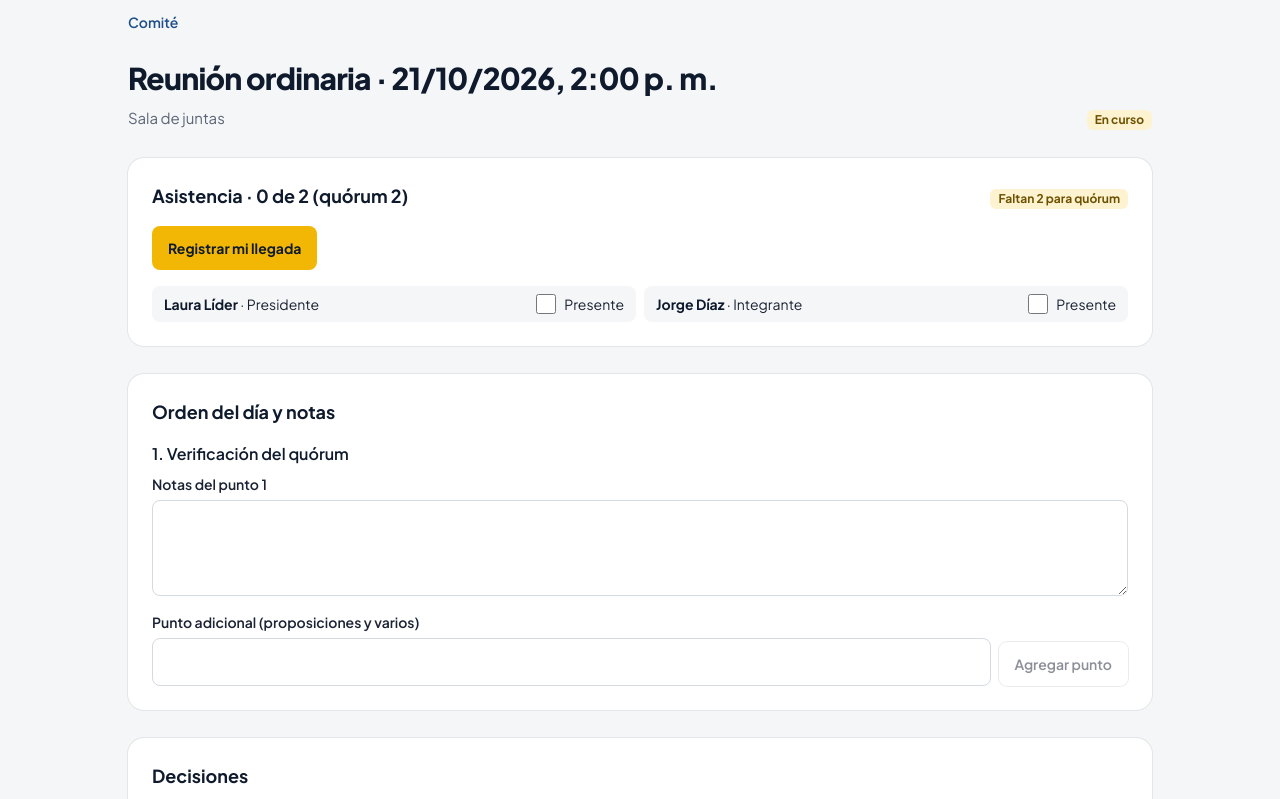
it: Reunión del comité › propone como votos a favor a los presentes aunque lleguen después de abrir la reunión
This screenshot has width=1280, height=799.
Later steps or results of the test are not shown.
Check: the text "Faltan 2 para quórum" is shown, box [990,189,1128,209]
Click the button "Registrar mi llegada": (235, 248) [152,226,318,270]
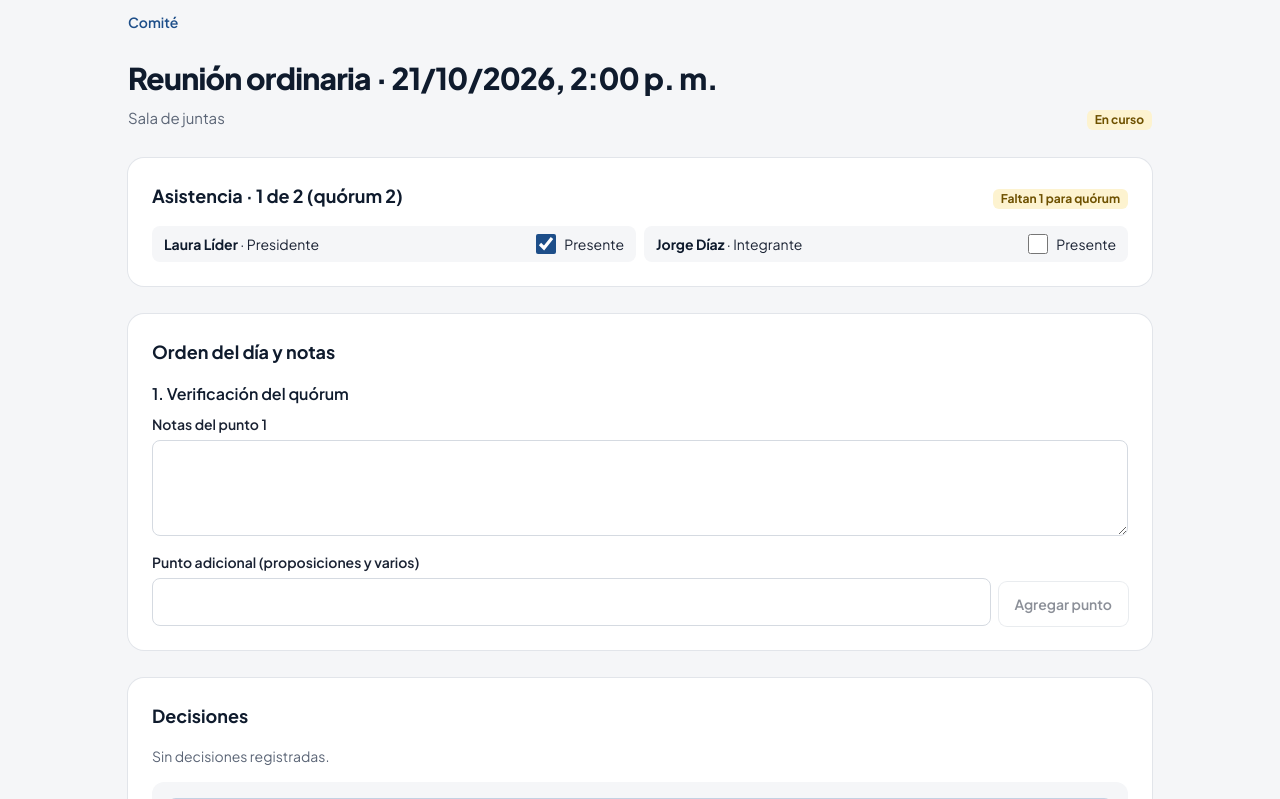
Check: the text "Faltan 1 para quórum" is shown, box [993,189,1128,209]
Click the checkbox labelled "Presente" in the row of "Jorge Díaz": (1038, 244) [1028,234,1048,254]
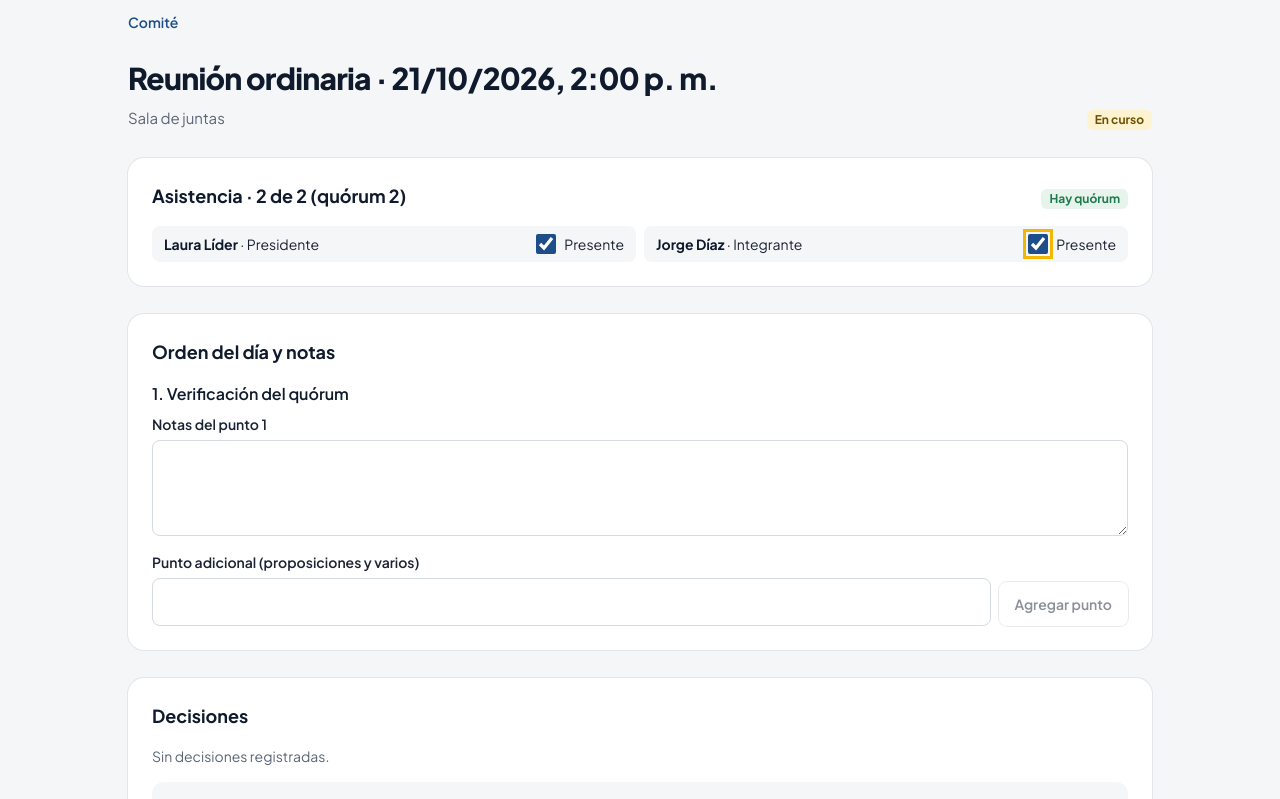
Check: the text "Hay quórum" is shown, box [1041,189,1128,209]
